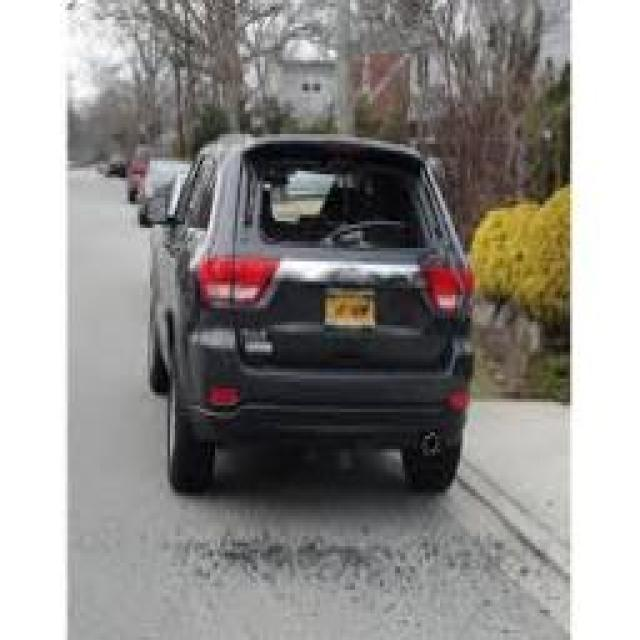replaceable: (254, 168, 427, 240), (410, 249, 477, 326)
